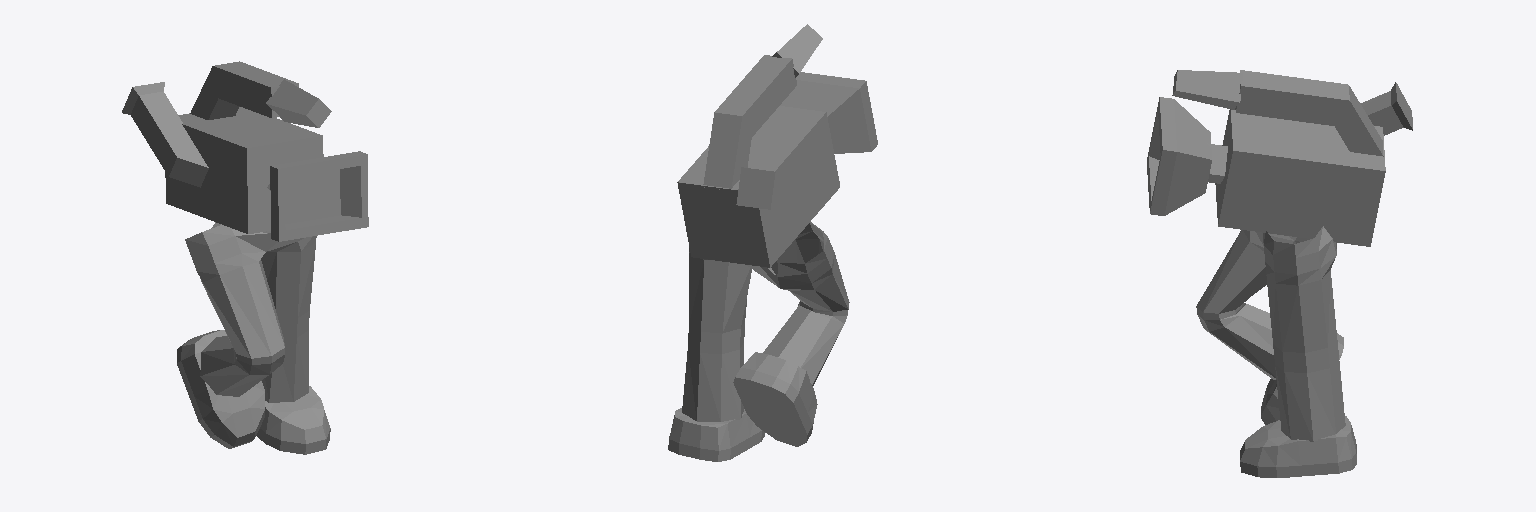
Rendered from cam_2.obj.
The picture shows the model from 3 angles: view 1: azimuth 30°, elevation 25°; view 2: azimuth 150°, elevation 25°; view 3: azimuth 270°, elevation 25°; orthographic projection.
Parts seen in each view (by area): view 1: Box002, Cylinder001; view 2: Box002, Cylinder001; view 3: Box002, Cylinder001.
Boxes of the visible parts, <box> form: Box002: <box>122,61,368,241</box>; Cylinder001: <box>177,222,330,454</box>; Box002: <box>677,24,877,267</box>; Cylinder001: <box>668,222,849,461</box>; Box002: <box>1147,70,1412,246</box>; Cylinder001: <box>1196,226,1356,477</box>.
Size of the model in its own units: 7.45 by 19.9 by 12.53.